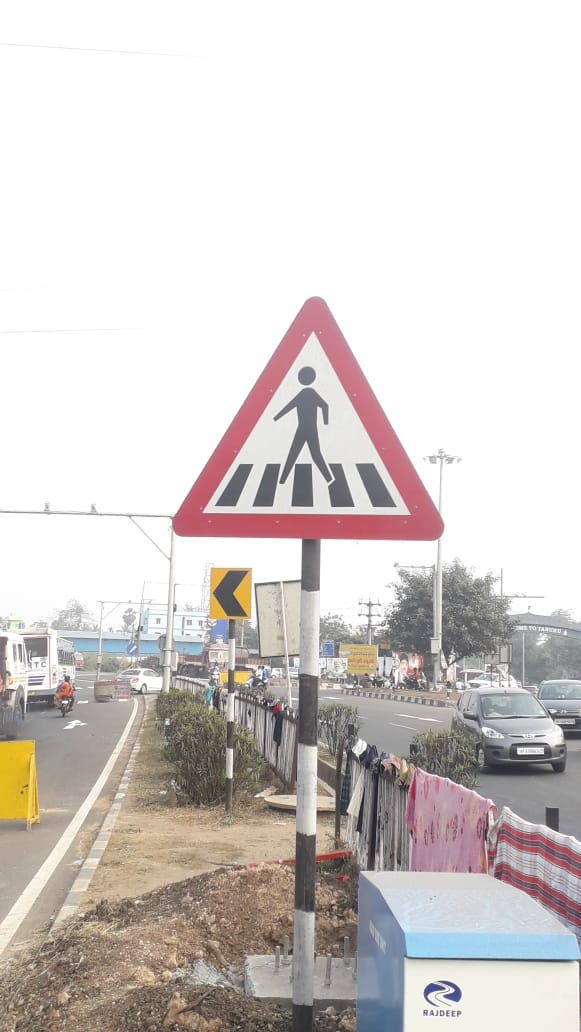pedestrian crossing: (182, 271, 453, 553)
